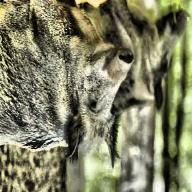boar: (0, 1, 146, 173)
